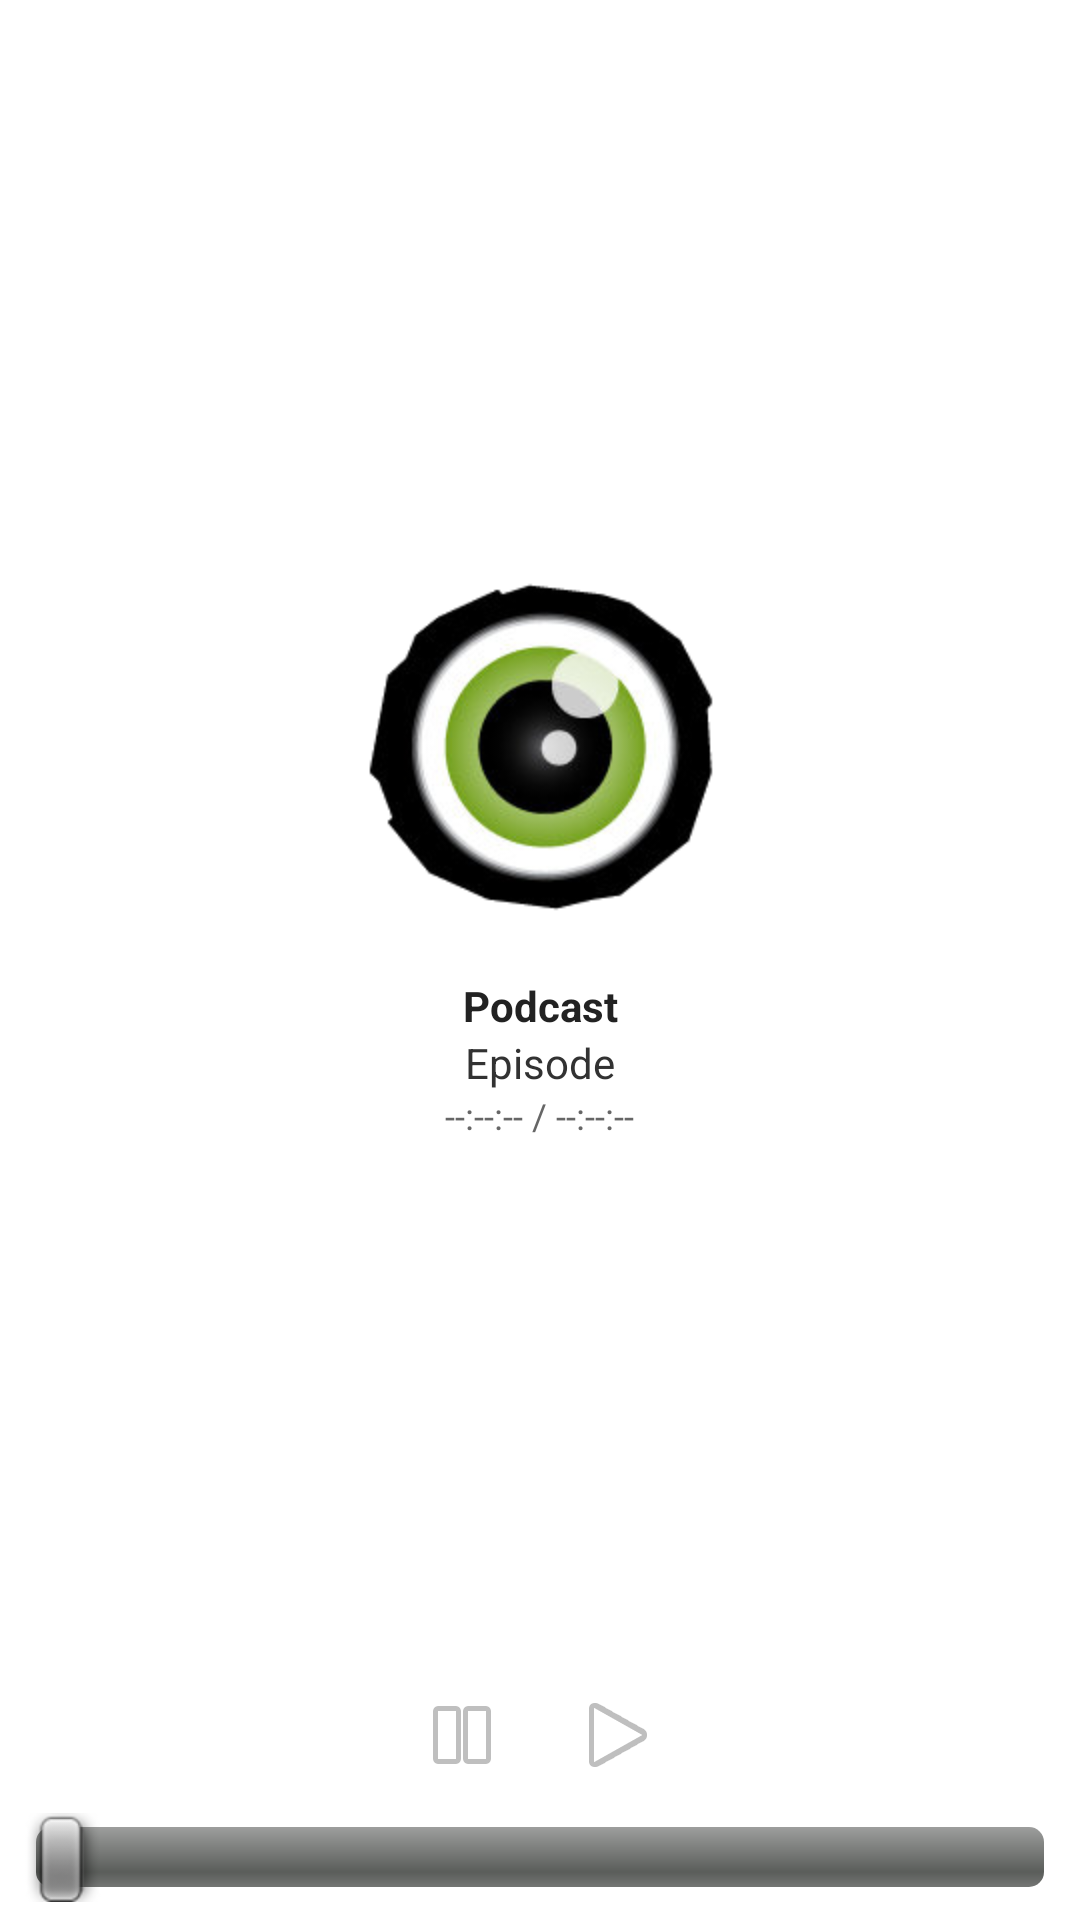

Where to tap for icons on this 1080px x 1920px app screen, as point (x, y):
oeil: point (541, 747)
pause: point (462, 1735)
play: point (618, 1735)
